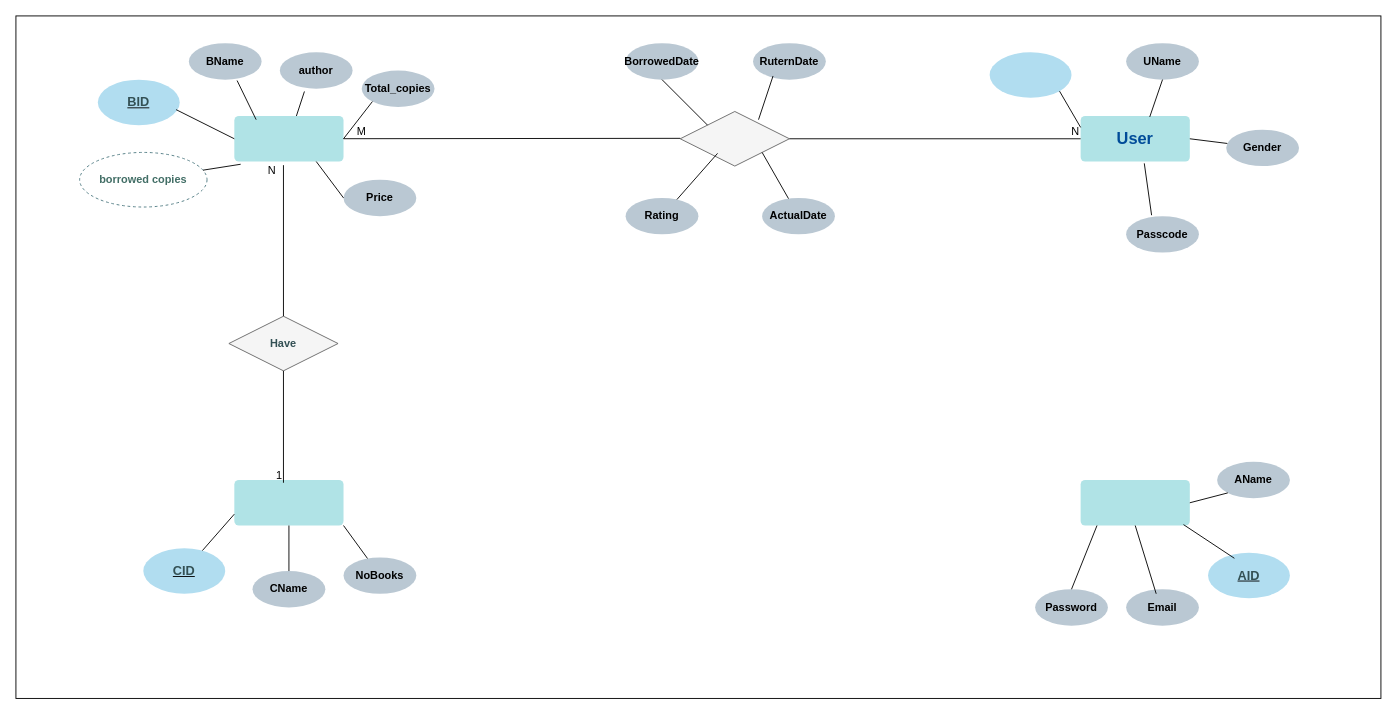
This 1397x714 diagram has some shape labels left out. Each missing label, with the box of its shape:
Admin: (1080, 480, 1189, 525)
Book: (234, 116, 343, 161)
Borrowing: (679, 111, 789, 166)
Category: (234, 480, 343, 525)
UID: (989, 52, 1071, 97)
